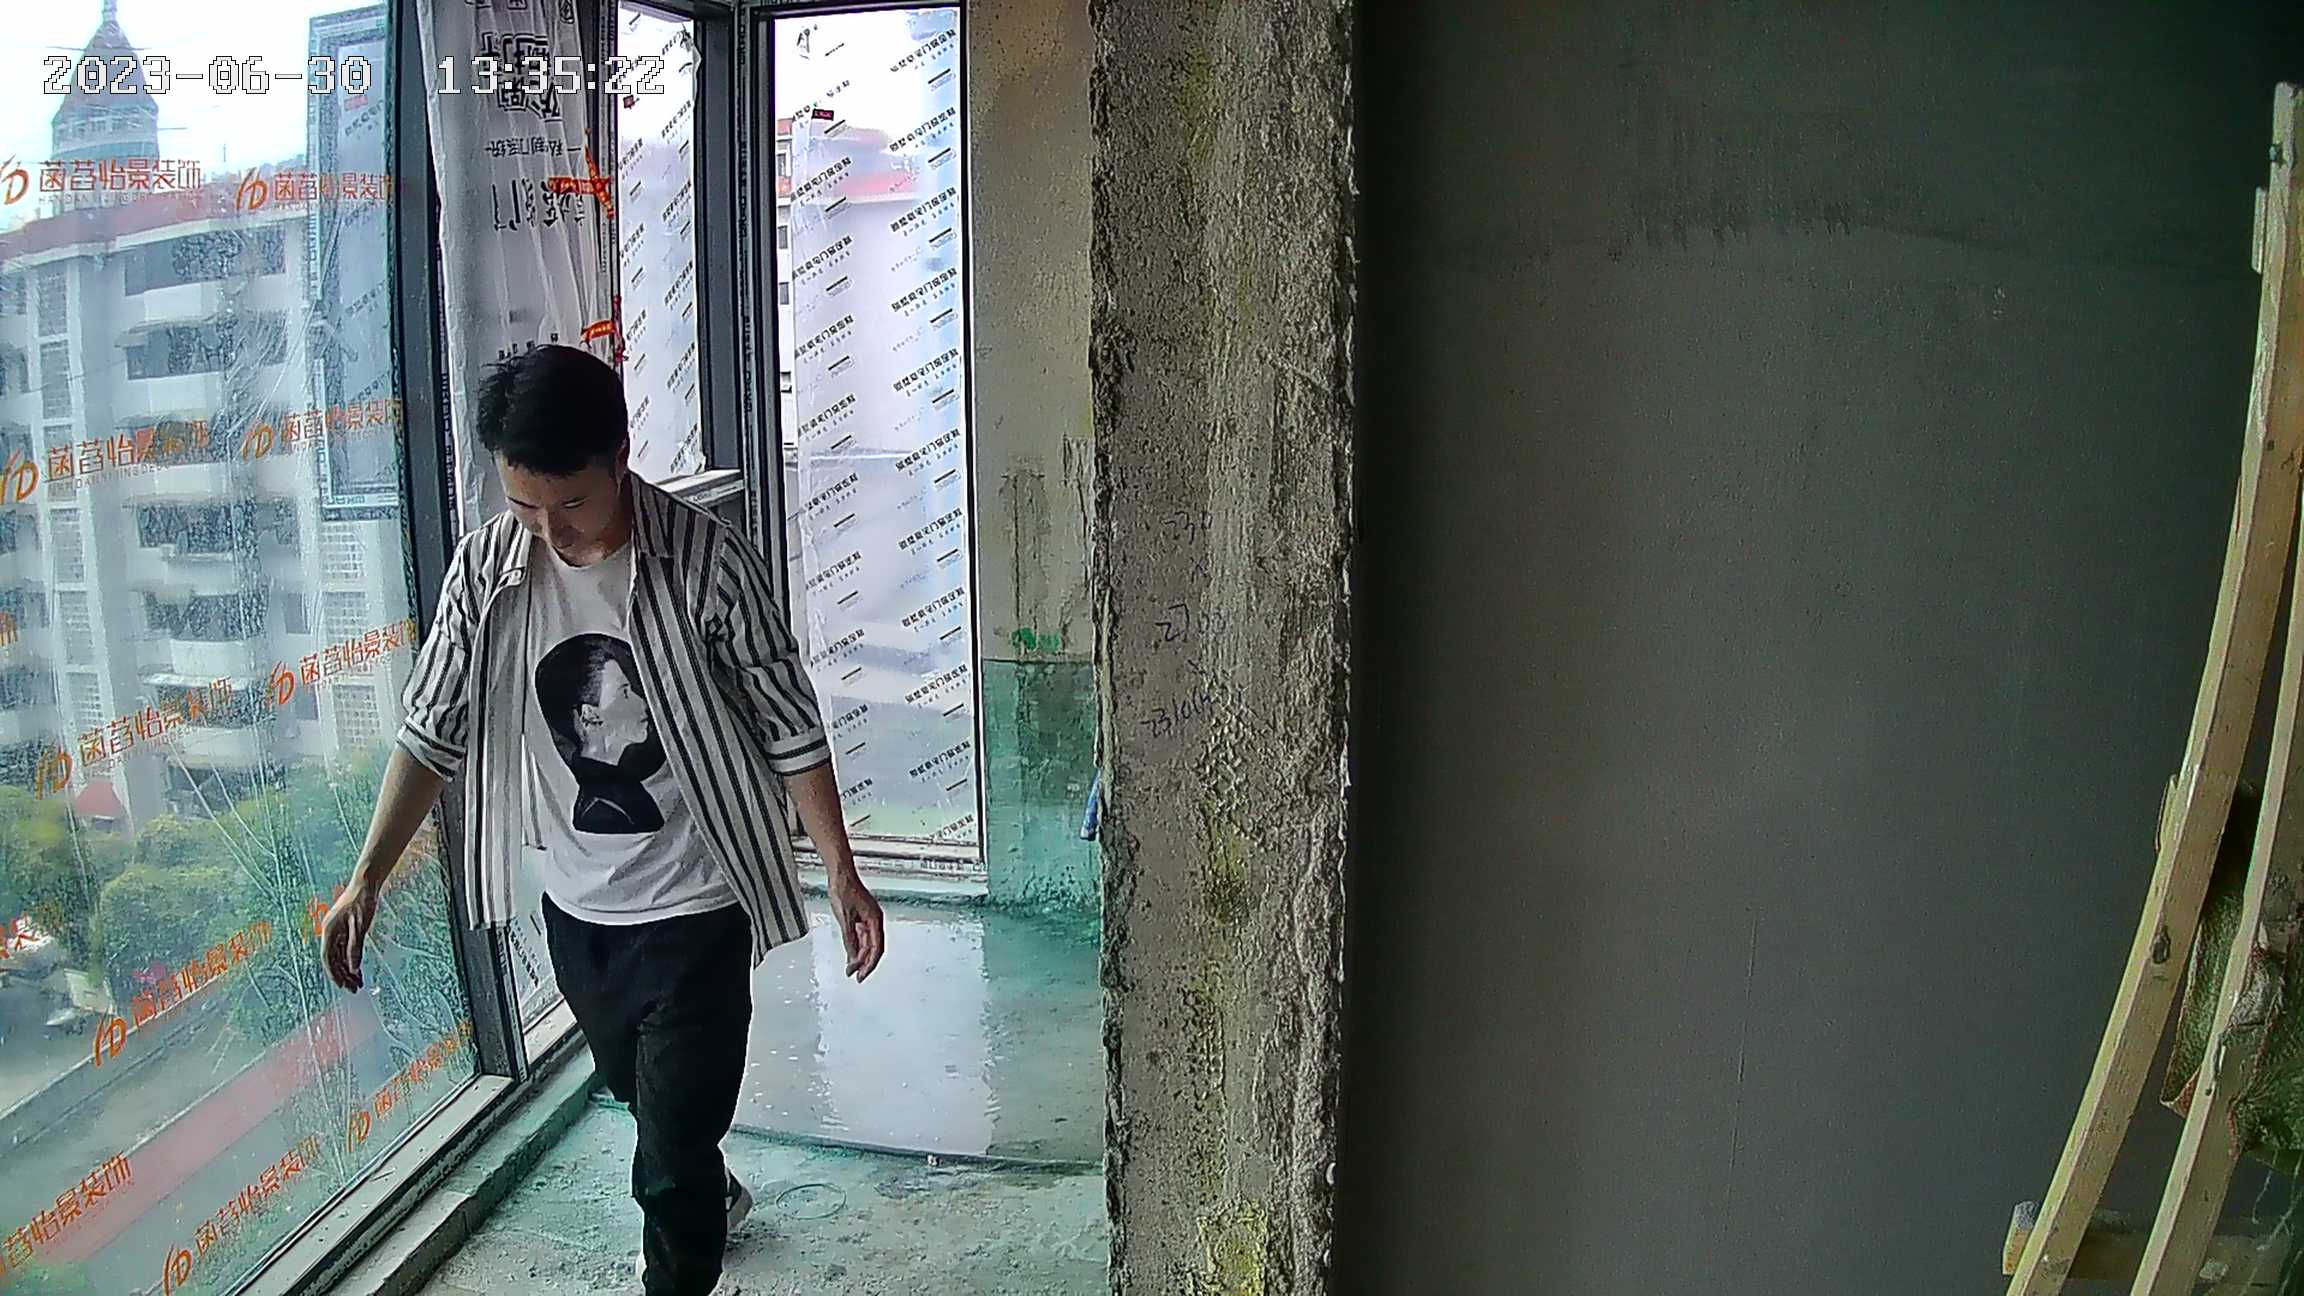people: (326, 345, 885, 1296)
window: (1, 1, 746, 1296), (754, 15, 982, 868)
